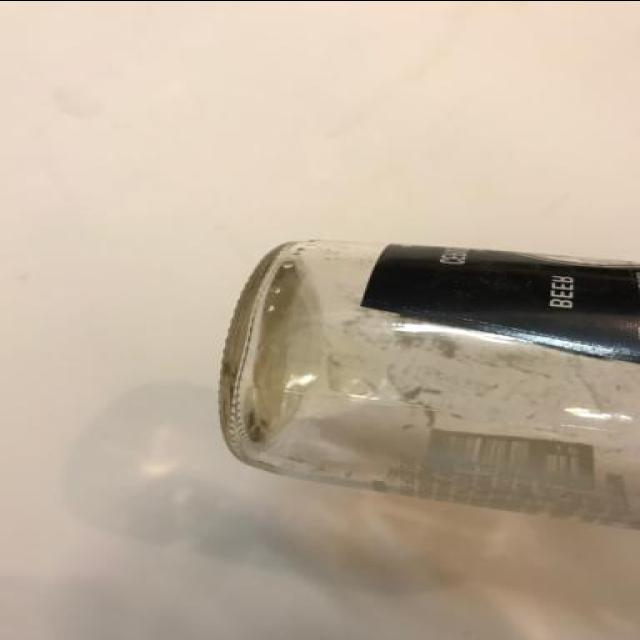glass: (207, 223, 640, 614)
